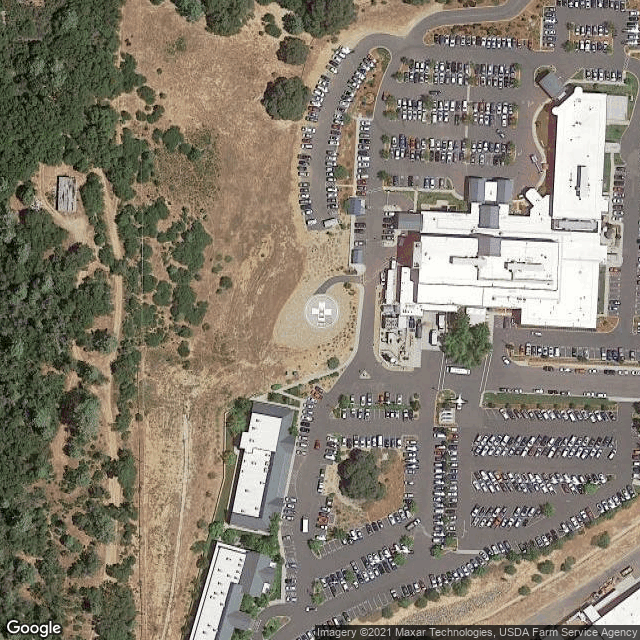Helipad: (301, 293, 341, 330)
